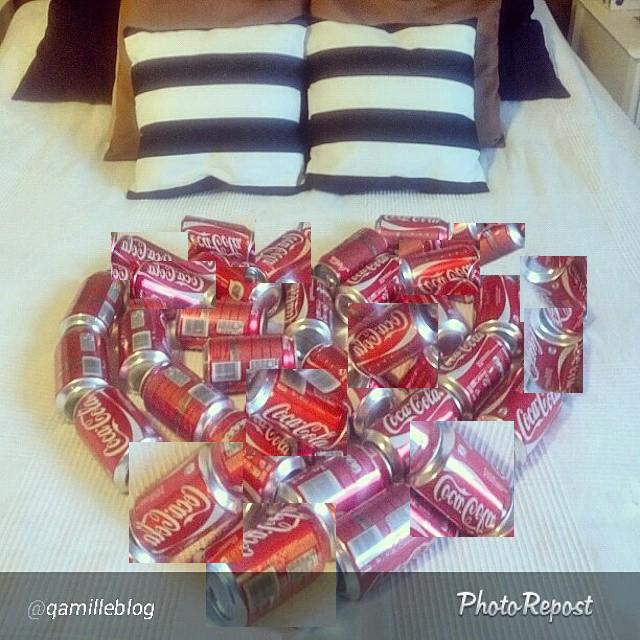coca-cola: (206, 503, 336, 627), (129, 442, 243, 563), (410, 421, 514, 537), (476, 363, 572, 465), (246, 369, 347, 456), (75, 383, 164, 481), (348, 303, 438, 388), (305, 337, 390, 425), (524, 308, 583, 393), (399, 240, 480, 295), (520, 256, 587, 322), (130, 261, 216, 309), (245, 222, 311, 283), (181, 215, 255, 267), (111, 232, 188, 280), (454, 223, 525, 275), (377, 211, 450, 250)
